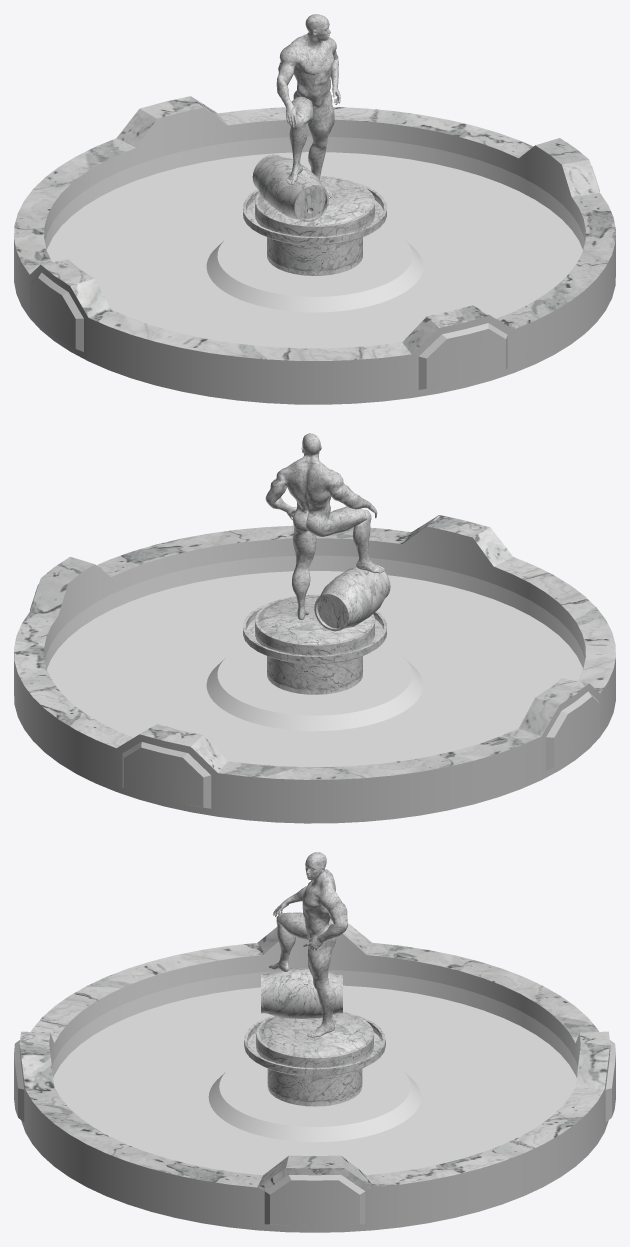
The model's file is statue.fbx.
The picture shows the model from 3 angles, top to bottom: view 1: azimuth 30°, elevation 25°; view 2: azimuth 150°, elevation 25°; view 3: azimuth 270°, elevation 25°; orthographic projection.
Parts seen in each view (by area): view 1: Cylinder.001, Cylinder.002, Cylinder, male_muscle_13290Mesh, Cylinder.004; view 2: Cylinder.001, Cylinder.002, Cylinder, male_muscle_13290Mesh, Cylinder.004; view 3: Cylinder.001, Cylinder.002, Cylinder, male_muscle_13290Mesh, Cylinder.004.
Part boxes in pixels (bbox=[...]): Cylinder.001: bbox=[14, 96, 615, 404]; Cylinder.002: bbox=[45, 137, 584, 347]; Cylinder: bbox=[243, 176, 386, 275]; male_muscle_13290Mesh: bbox=[276, 14, 340, 198]; Cylinder.004: bbox=[252, 154, 328, 222]; Cylinder.001: bbox=[14, 515, 615, 823]; Cylinder.002: bbox=[45, 556, 584, 766]; Cylinder: bbox=[243, 594, 386, 694]; male_muscle_13290Mesh: bbox=[265, 433, 384, 620]; Cylinder.004: bbox=[314, 567, 390, 631]; Cylinder.001: bbox=[14, 919, 615, 1232]; Cylinder.002: bbox=[52, 971, 577, 1174]; Cylinder: bbox=[244, 1011, 385, 1106]; male_muscle_13290Mesh: bbox=[269, 852, 347, 1037]; Cylinder.004: bbox=[261, 968, 342, 1018].
Size of the model in its own units: 5096 by 2391 by 5096.
